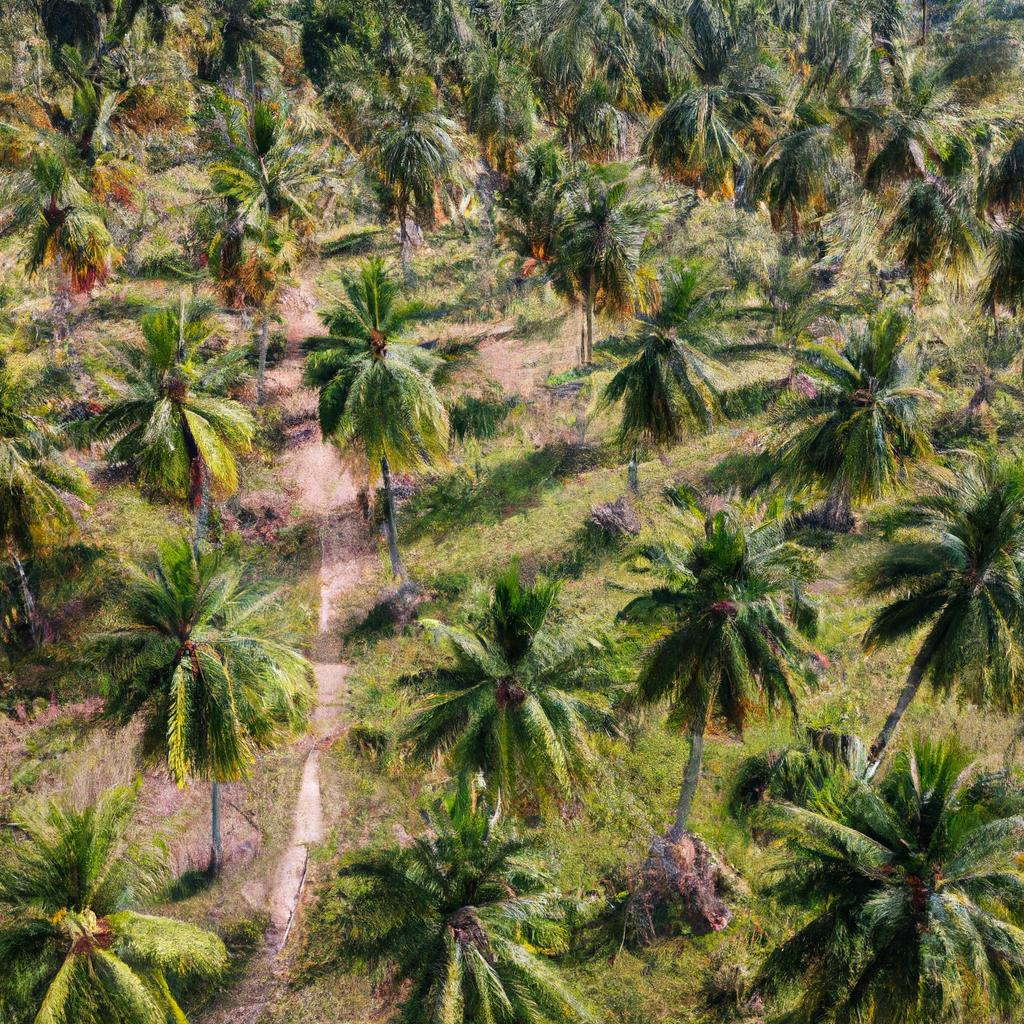coconut_tree: (730, 678, 1023, 1023), (71, 520, 351, 797), (320, 791, 644, 1023), (614, 494, 839, 758), (390, 566, 620, 815), (281, 270, 530, 496), (73, 294, 279, 534), (584, 261, 779, 478), (776, 296, 952, 491)
